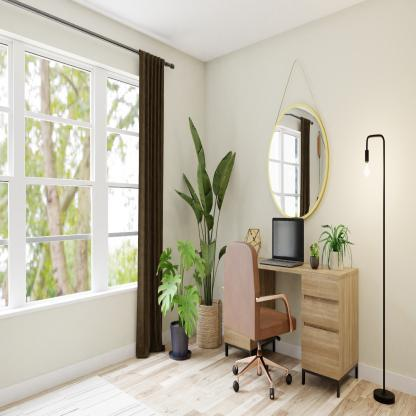chair: (213, 238, 300, 406)
light: (357, 119, 403, 409)
table: (217, 251, 360, 398)
